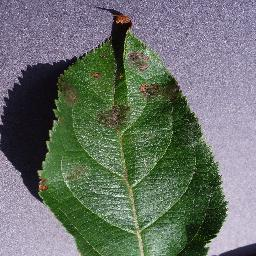apple healthy: (35, 7, 229, 255)
